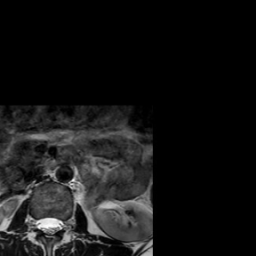CCS_normal: (44, 207, 53, 242)
LFS_normal: (61, 210, 68, 235)
LLS_normal: (53, 210, 61, 236)
RFS_normal: (29, 207, 36, 236)
RLS_normal: (36, 210, 44, 236)
